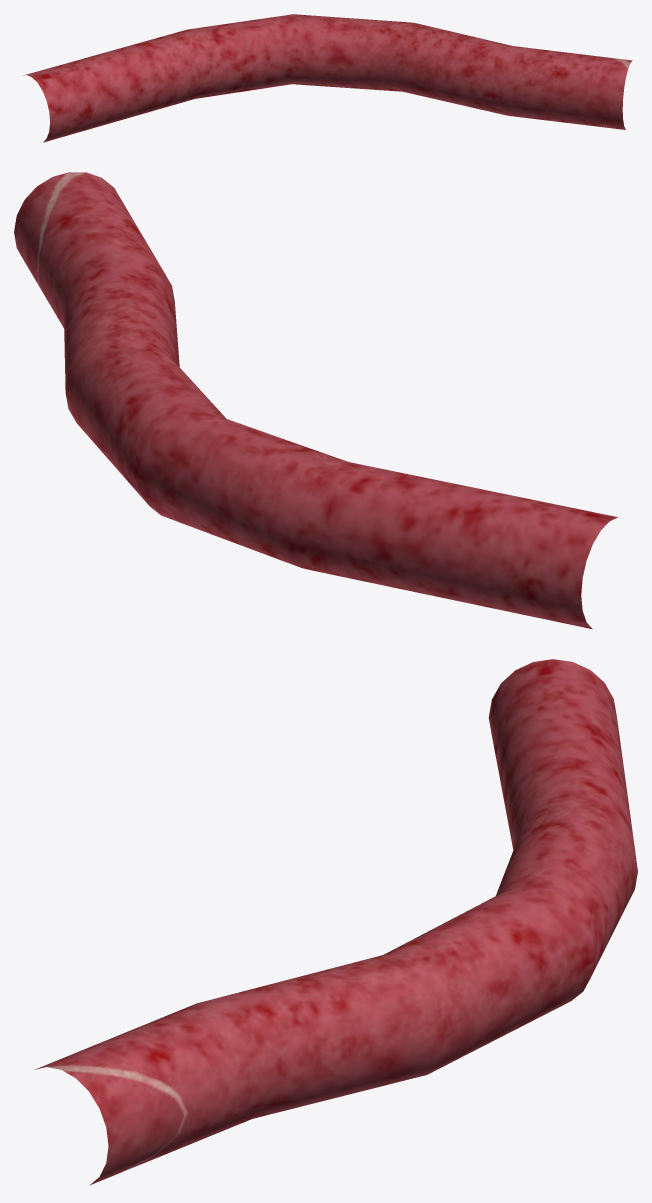
Rendered from Renal_Vein.glb.
The picture shows the model from 3 angles, top to bottom: view 1: azimuth 30°, elevation 25°; view 2: azimuth 150°, elevation 25°; view 3: azimuth 270°, elevation 25°; orthographic projection. The views are drawn at different scales.
Visible parts, largest first — view 1: renal_vein1; view 2: renal_vein1; view 3: renal_vein1.
Part boxes in pixels (x1=…): renal_vein1: x1=23, y1=14, x2=632, y2=142; renal_vein1: x1=14, y1=172, x2=619, y2=629; renal_vein1: x1=34, y1=659, x2=637, y2=1185.
Size of the model in its own units: 25.87 by 3.26 by 15.89.
1 material, 1 textured.
